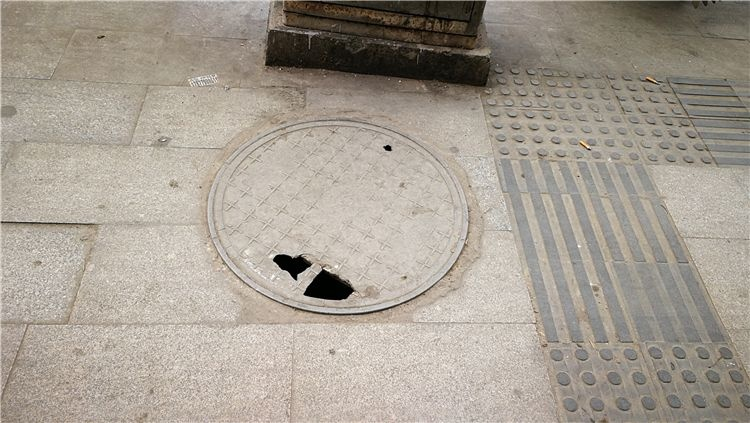broke: (208, 116, 469, 314)
